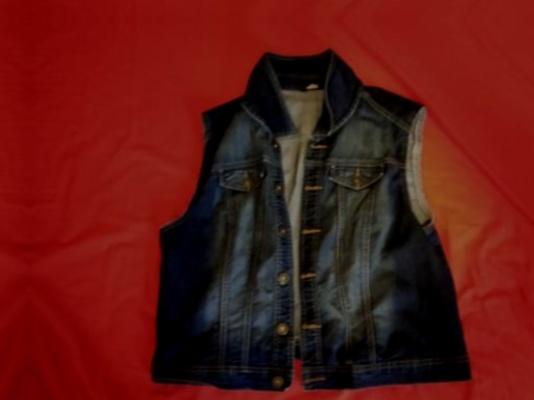Blazer: (131, 67, 479, 396)
